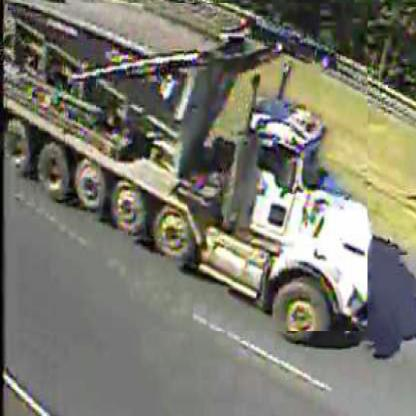container: (5, 4, 369, 333)
